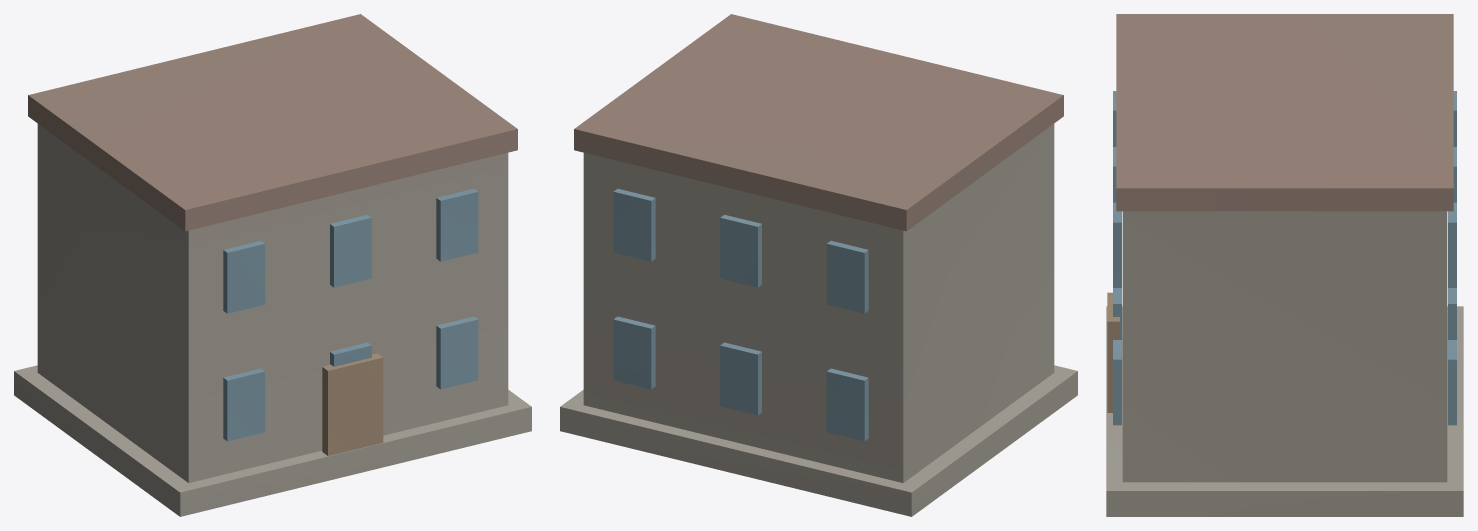
File: warehouse-00.glb
3 renders of one model, left to right at view 1: azimuth 30°, elevation 25°; view 2: azimuth 150°, elevation 25°; view 3: azimuth 270°, elevation 25°, orthographic. The views are drawn at different scales.
Parts seen in each view (by area): view 1: world; view 2: world; view 3: world.
Part boxes in pixels (<box>): world: <box>14,14,531,516</box>; world: <box>560,14,1077,516</box>; world: <box>1106,14,1463,516</box>.
Size of the model in its own units: 1.21 by 0.99 by 0.99.
